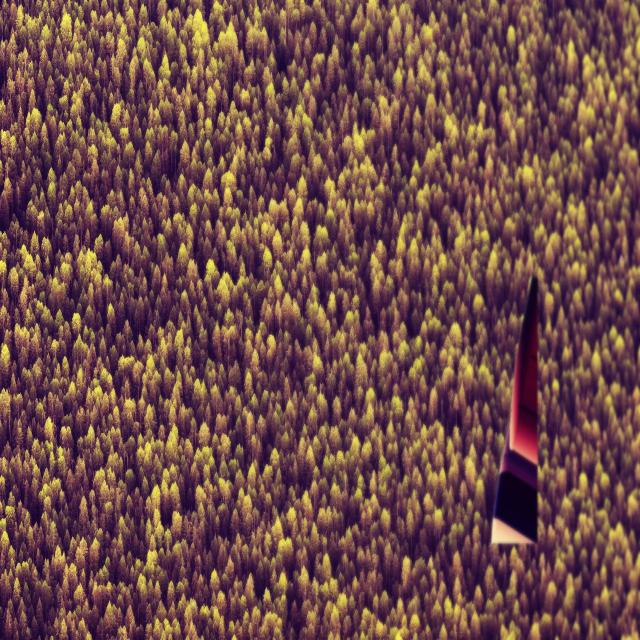airplane: (490, 274, 539, 546)
